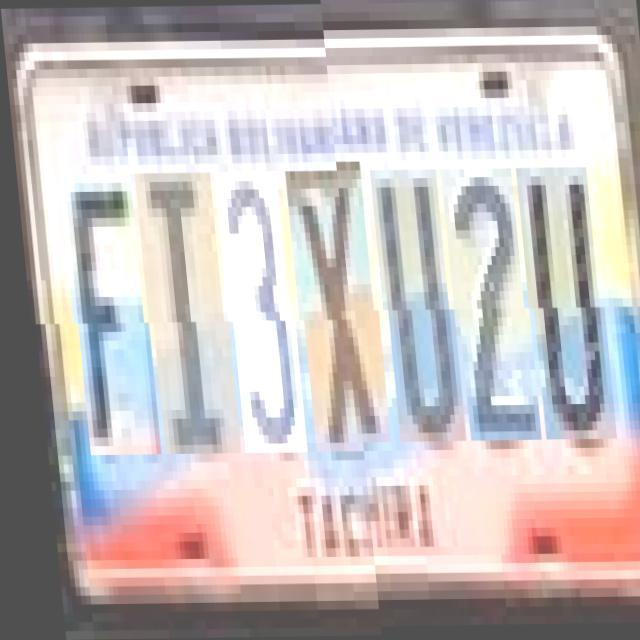2: (442, 178, 533, 451)
3: (216, 172, 298, 454)
F: (61, 174, 152, 455)
I: (136, 173, 232, 454)
U: (518, 177, 608, 450), (371, 179, 458, 452)
X: (286, 172, 383, 452)
